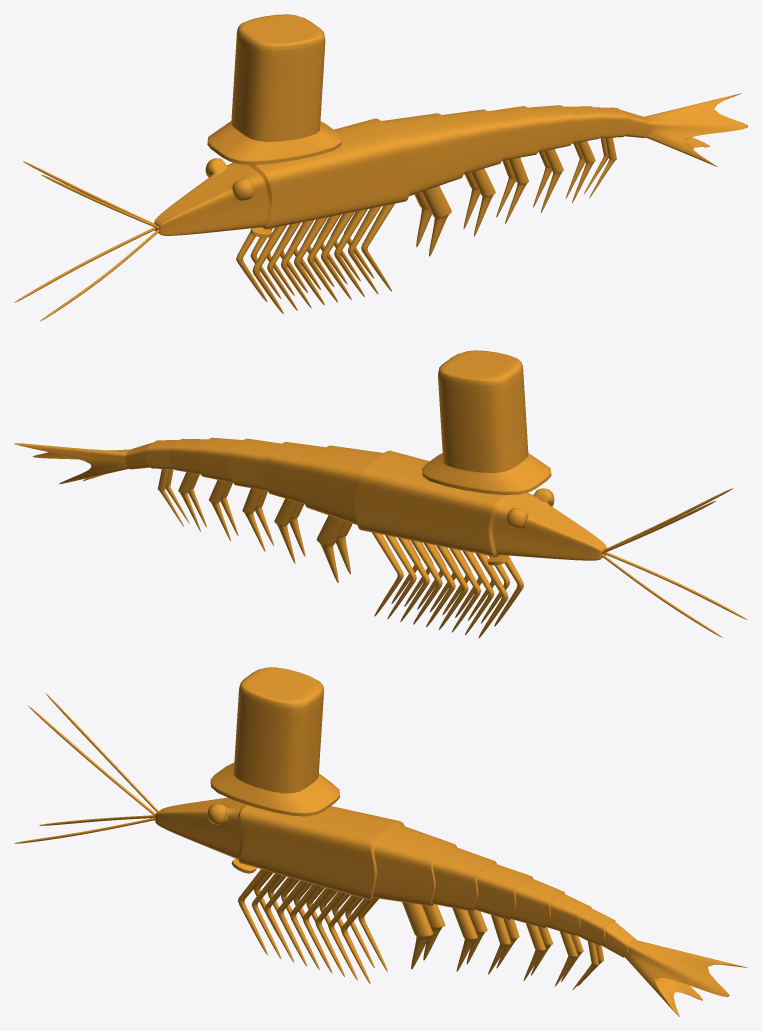
Rendered from demo-1-shrimpNPC.fbx.
3 renders of one model, top to bottom at view 1: azimuth 30°, elevation 25°; view 2: azimuth 150°, elevation 25°; view 3: azimuth 330°, elevation 25°, orthographic. The views are drawn at different scales.
Parts seen in each view (by area): view 1: polySurface4, polySurface3; view 2: polySurface4, polySurface3; view 3: polySurface4, polySurface3.
Boxes of the visible parts, x1=… form: polySurface4: x1=14, y1=93, x2=747, y2=321; polySurface3: x1=207, y1=14, x2=341, y2=164; polySurface4: x1=14, y1=437, x2=746, y2=638; polySurface3: x1=422, y1=350, x2=551, y2=495; polySurface4: x1=14, y1=693, x2=747, y2=1016; polySurface3: x1=210, y1=667, x2=339, y2=816.
Size of the model in its own units: 24.36 by 8.98 by 2.68.
